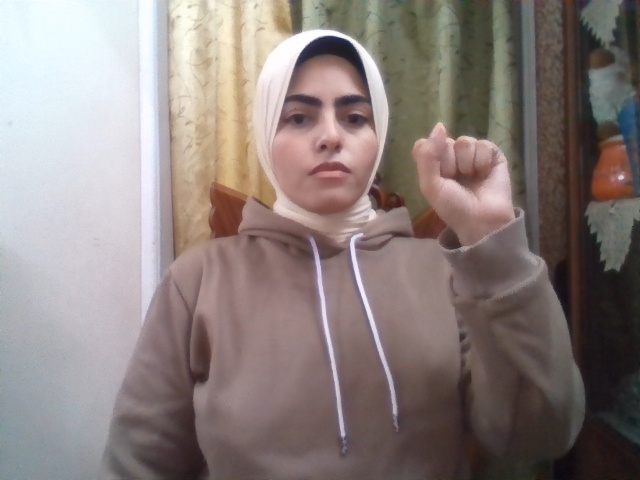S: (414, 122, 514, 228)
